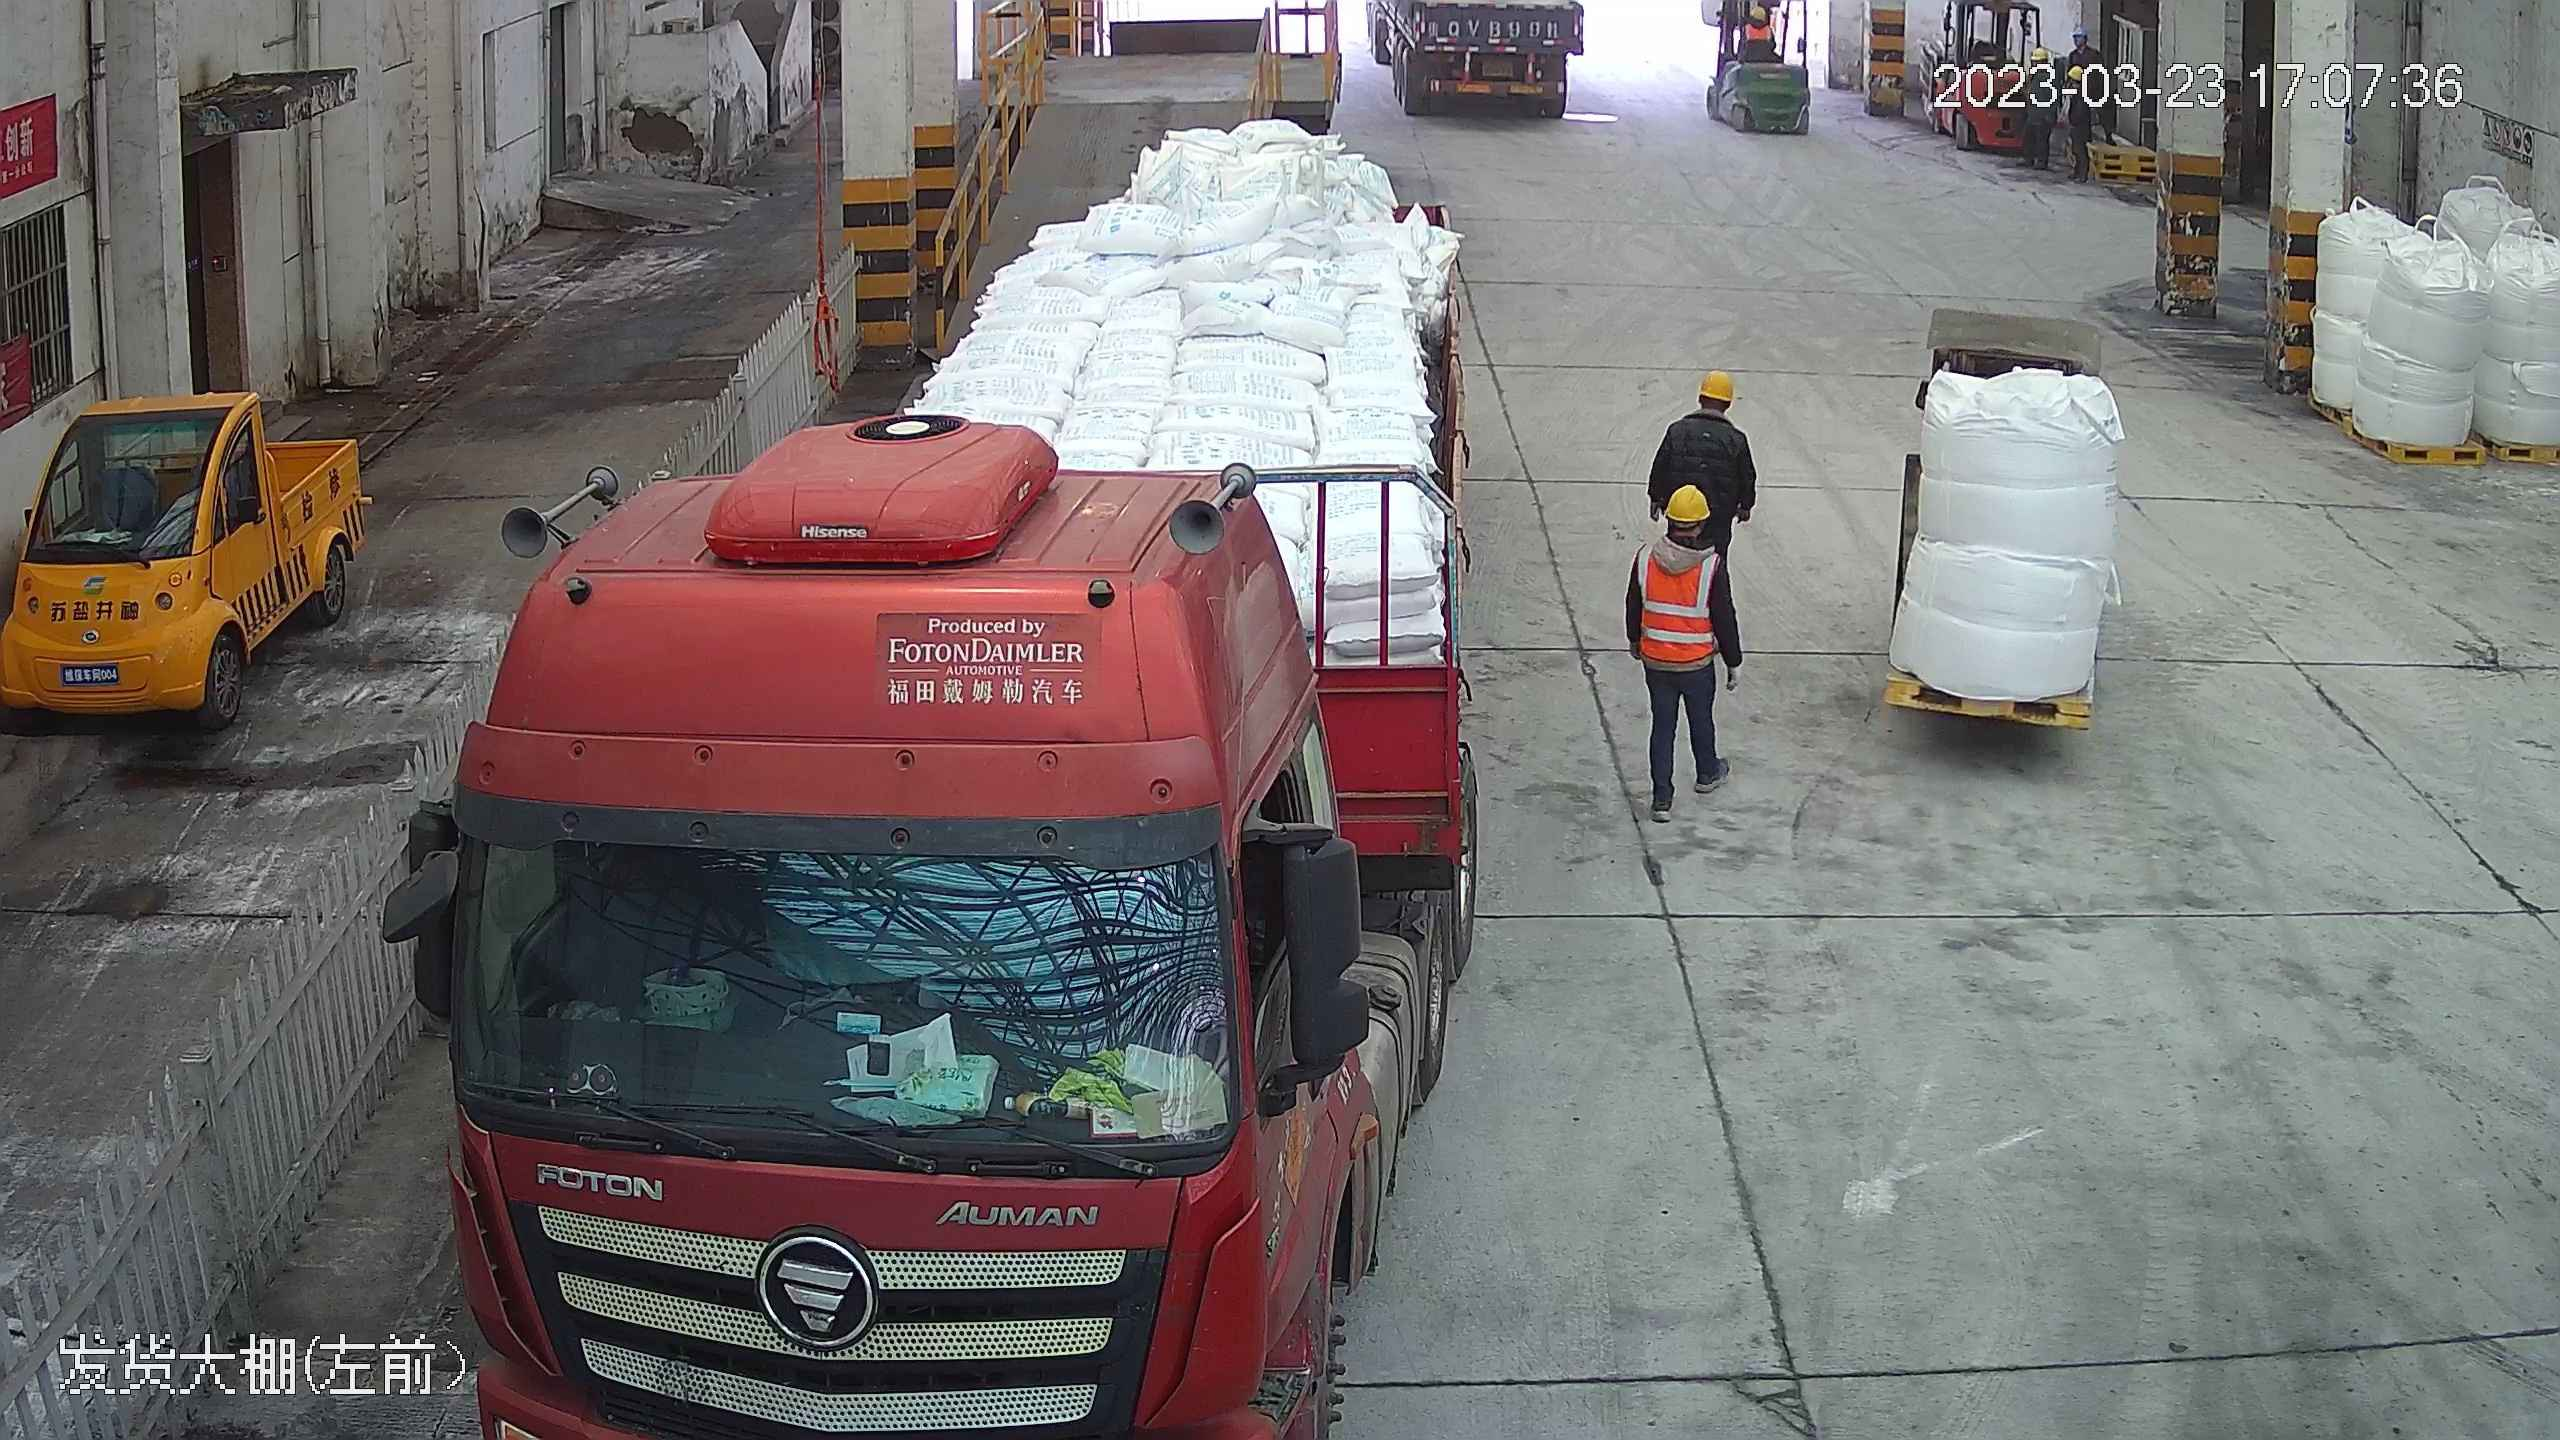head: (1637, 483, 1729, 592), (1662, 369, 1749, 452), (1694, 368, 1739, 405)
helmet: (1659, 481, 1714, 519), (1695, 368, 1737, 403)
people: (1623, 479, 1740, 820), (1650, 362, 1755, 530)
truck: (392, 9, 1509, 1440)
